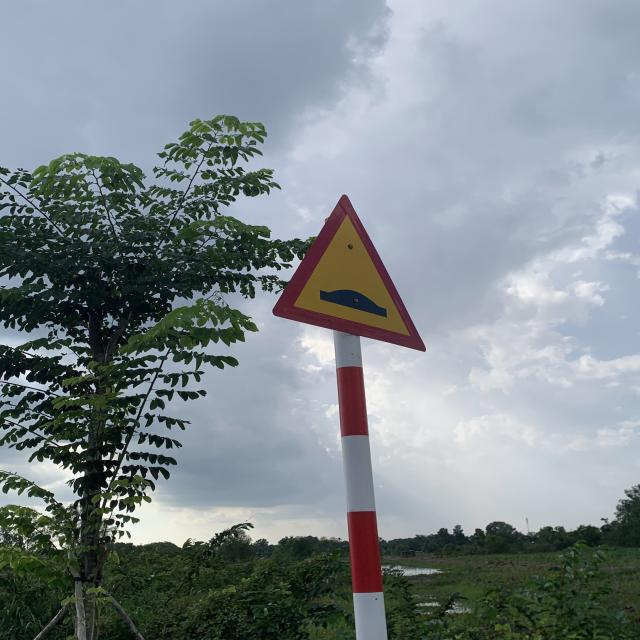Duong_Cong_Ben_Phai: (272, 192, 426, 350)
